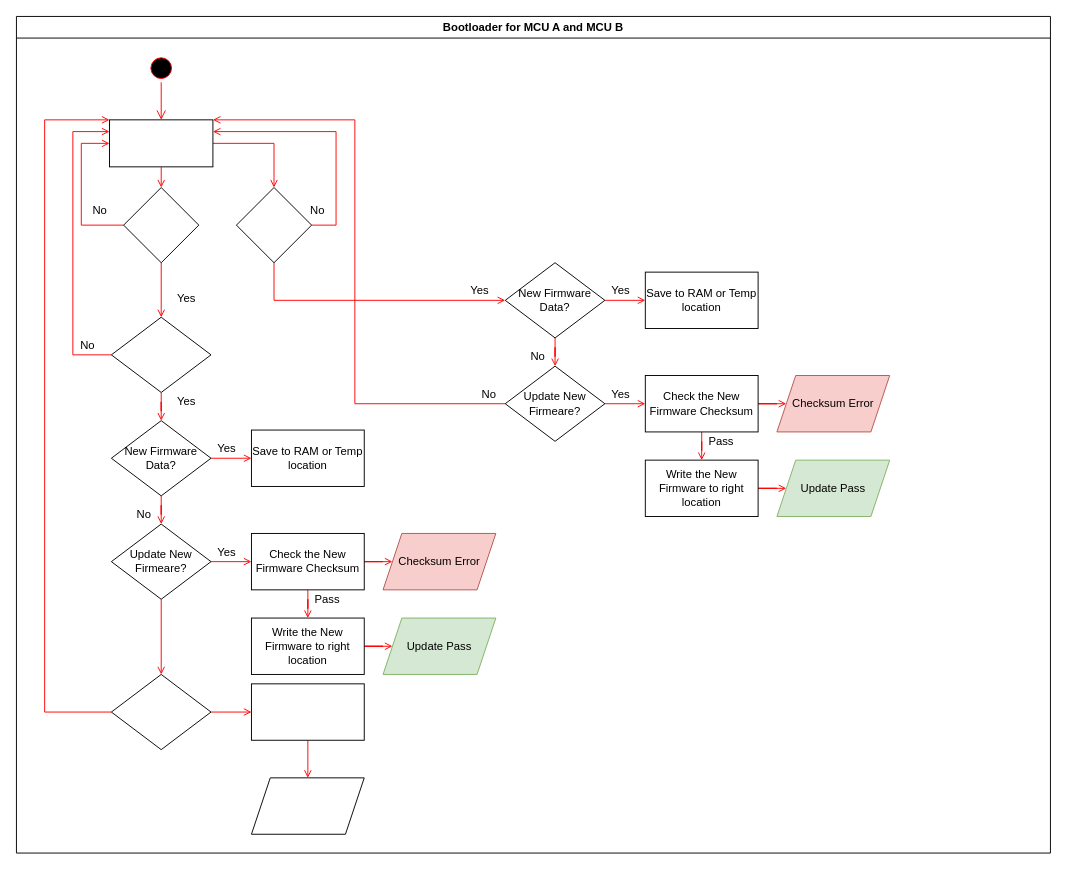
Some shapes in this 1067 by 870 pixel diagram are drawn without their labels. The centre of each missing label's shape, as x and y in pixels:
"Conver the data" goes at (307,711).
"Data CRC pass?" goes at (160,354).
"idle" goes at (161,143).
"Received data from SPI" goes at (273,225).
"Received data from UART" goes at (161,225).
"Send the data to MCU B?" goes at (160,712).
"Send to MCU B" goes at (307,805).
